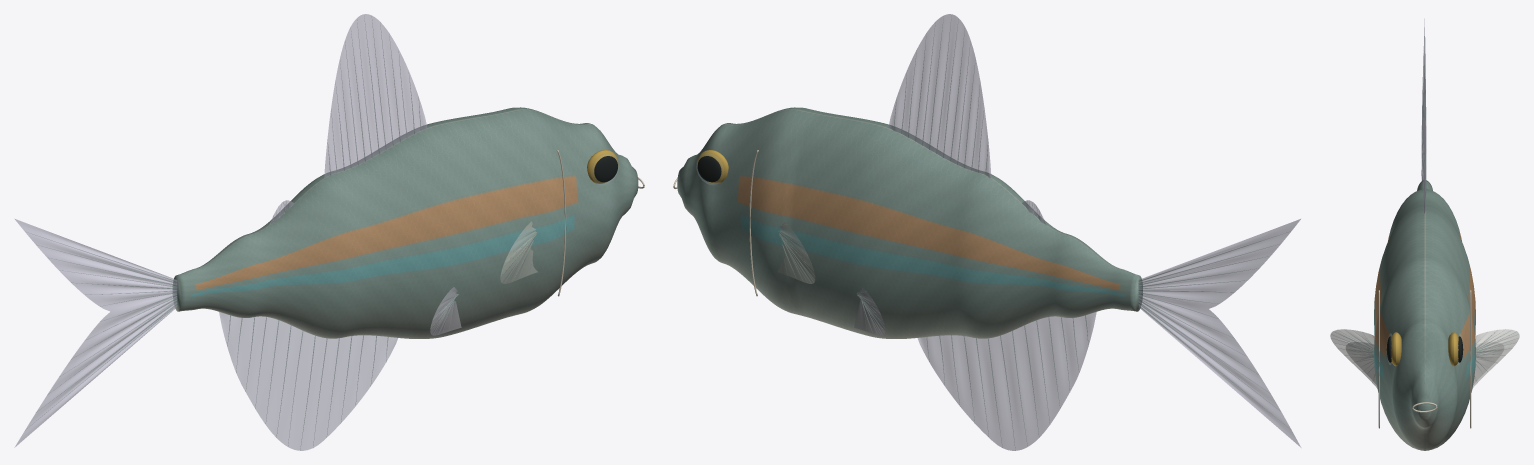
File: congo-desktop.glb
The picture shows the model from 3 angles, left to right: view 1: azimuth 30°, elevation 25°; view 2: azimuth 150°, elevation 25°; view 3: azimuth 270°, elevation 25°; orthographic projection. The views are drawn at different scales.
Visible parts, largest first — view 1: skin, anal, tail, dorsal, dorsal-ray, pectoral-left, pelvic-left; view 2: skin, anal, tail, dorsal, dorsal-ray, pectoral-left, pelvic-left; view 3: skin, pectoral-left, pelvic-left, dorsal-ray, operculum, eye-iris--1, tail, dorsal, eye-pupil--1.
Part boxes in pixels (x1,y1,x2,y2): skin: [173, 107, 638, 338]; anal: [219, 312, 397, 450]; tail: [14, 219, 177, 447]; dorsal: [269, 14, 427, 224]; dorsal-ray: [27, 15, 536, 448]; pectoral-left: [500, 221, 537, 283]; pelvic-left: [430, 287, 461, 335]; skin: [677, 107, 1142, 338]; anal: [917, 312, 1096, 450]; tail: [1138, 219, 1300, 447]; dorsal: [888, 14, 1045, 224]; dorsal-ray: [778, 16, 1290, 450]; pectoral-left: [778, 221, 815, 283]; pelvic-left: [854, 287, 885, 335]; skin: [1374, 180, 1475, 450]; pectoral-left: [1330, 329, 1519, 388]; pelvic-left: [1346, 342, 1503, 383]; dorsal-ray: [1333, 36, 1516, 376]; operculum: [1378, 290, 1471, 428]; eye-iris--1: [1391, 332, 1458, 366]; tail: [1421, 19, 1425, 180]; dorsal: [1423, 68, 1426, 213]; eye-pupil--1: [1386, 336, 1463, 362].
Bounding box in the file's own units: 0.5972 × 0.3859 × 0.1669.
Materials: 11 (1 with a texture image).
